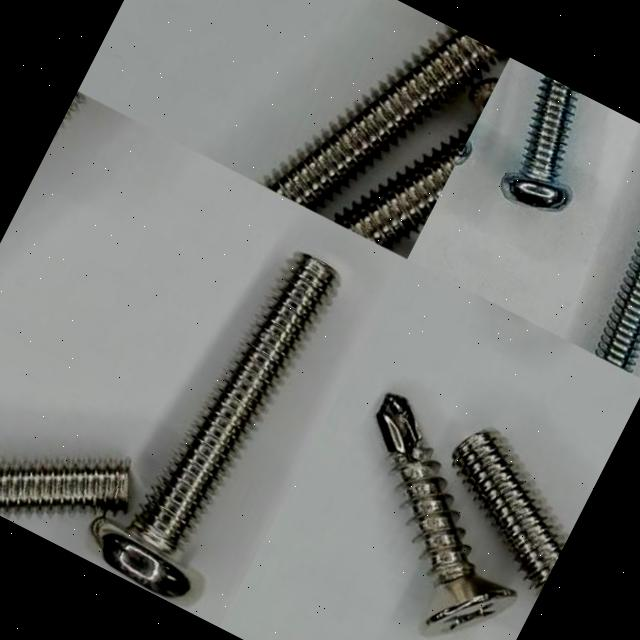Screw: (91, 254, 340, 600), (262, 27, 510, 211), (376, 393, 516, 636), (331, 118, 479, 249), (452, 430, 567, 593), (502, 75, 578, 212), (0, 460, 130, 512), (595, 238, 640, 374)
